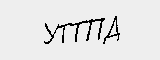Д: (102, 15, 123, 44)
П: (84, 15, 104, 44)
Т: (69, 20, 85, 46), (57, 20, 71, 47)
У: (40, 21, 59, 47)
